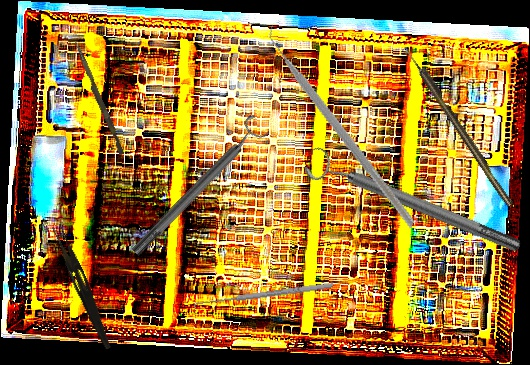Chopper: (221, 14, 466, 230)
Dressing Forceps: (47, 223, 118, 351)
Fixation Ring: (301, 142, 526, 265), (123, 113, 272, 262)
Hook Surgical: (403, 44, 514, 209), (192, 280, 335, 314)
Pusher: (70, 41, 127, 155)
